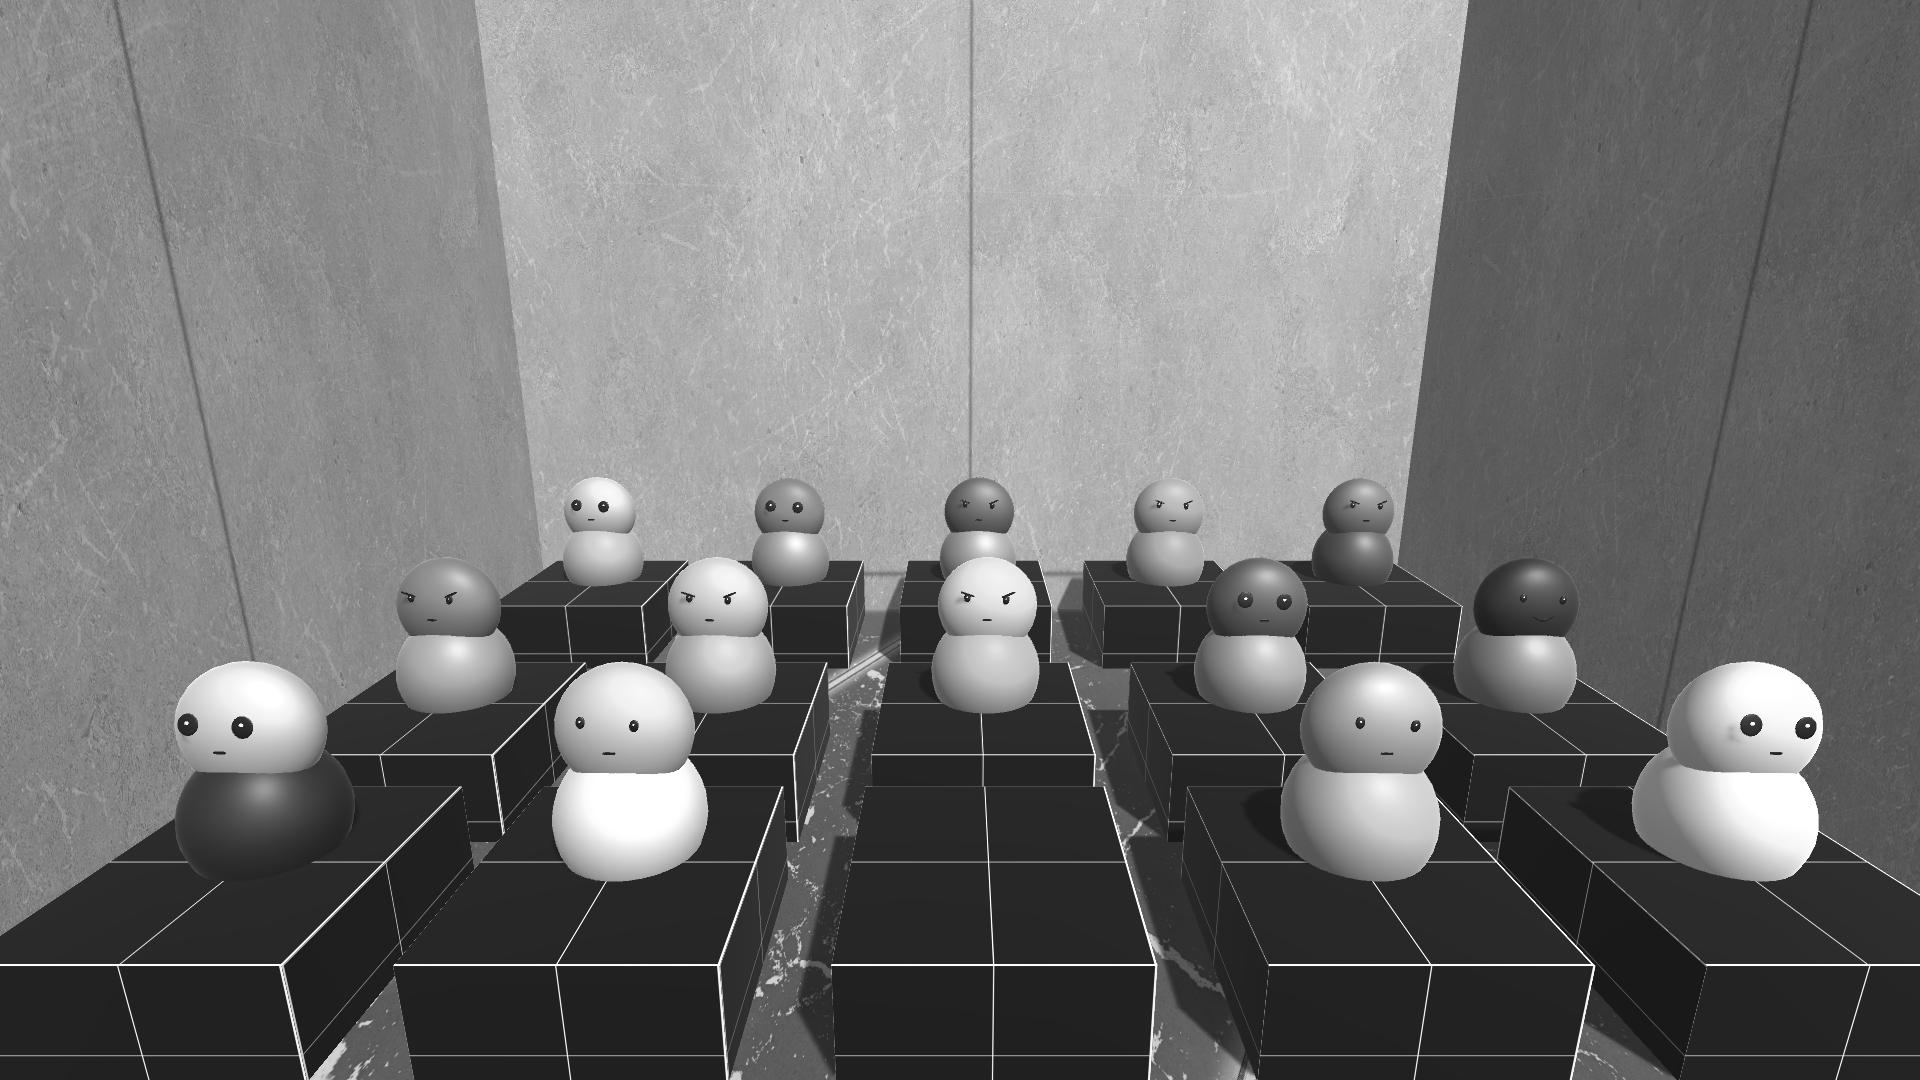blob_atento: (1623, 649, 1832, 884), (167, 655, 361, 884), (1197, 560, 1307, 727), (746, 479, 841, 593), (564, 477, 640, 585)
blob_feliz: (1453, 556, 1597, 720)
blob_normal: (1273, 659, 1447, 893), (547, 659, 705, 887)
blob_raiva: (393, 556, 521, 719), (663, 556, 783, 713), (931, 554, 1040, 707), (1313, 469, 1403, 596), (1127, 477, 1211, 593), (934, 479, 1025, 574)
